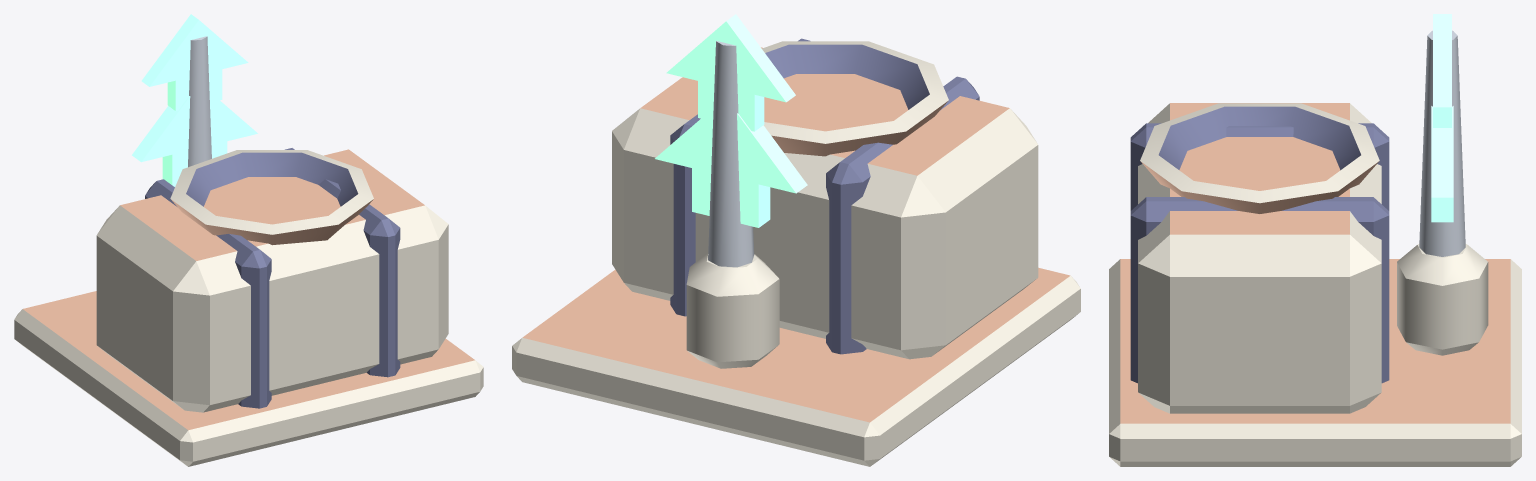
The model's file is R4X_CargoUplink_LOD1.fbx.
3 renders of one model, left to right at view 1: azimuth 30°, elevation 25°; view 2: azimuth 150°, elevation 25°; view 3: azimuth 270°, elevation 25°, orthographic. The views are drawn at different scales.
Visible parts, largest first — view 1: R4X_CargoUplink_LOD1; view 2: R4X_CargoUplink_LOD1; view 3: R4X_CargoUplink_LOD1.
Boxes of the visible parts, x1=… form: R4X_CargoUplink_LOD1: x1=14, y1=14, x2=483, y2=466; R4X_CargoUplink_LOD1: x1=512, y1=14, x2=1080, y2=466; R4X_CargoUplink_LOD1: x1=1109, y1=14, x2=1521, y2=466.
Bounding box in the file's own units: 0.52 × 0.515 × 0.52.
